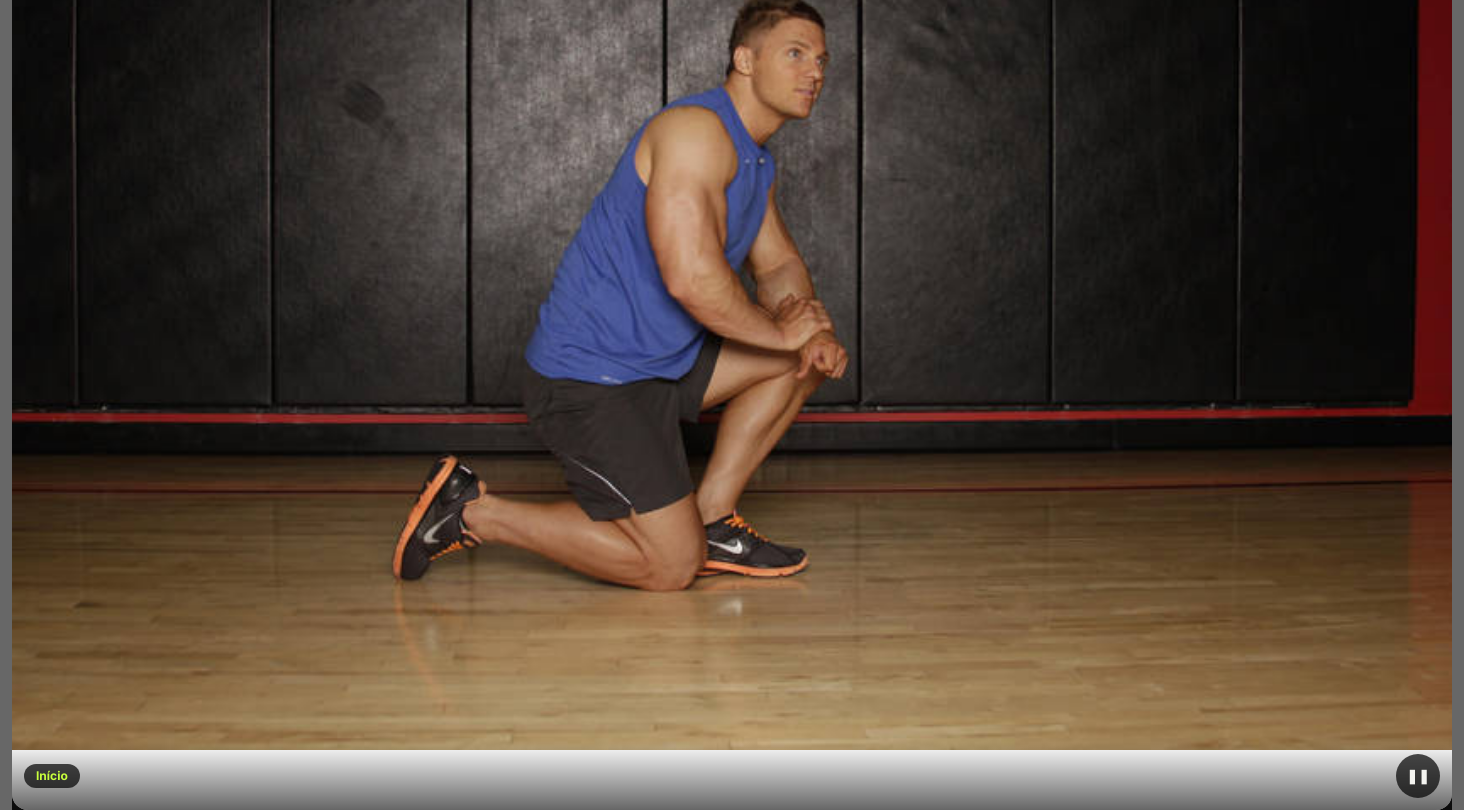
Test case: ExerciseAnimation › o botão pausa e retoma a animação
(page scrolled)
Click the button named "Pausar animação".
click(1418, 776)  # box [1396,754,1440,798]
Wait 5000 ms
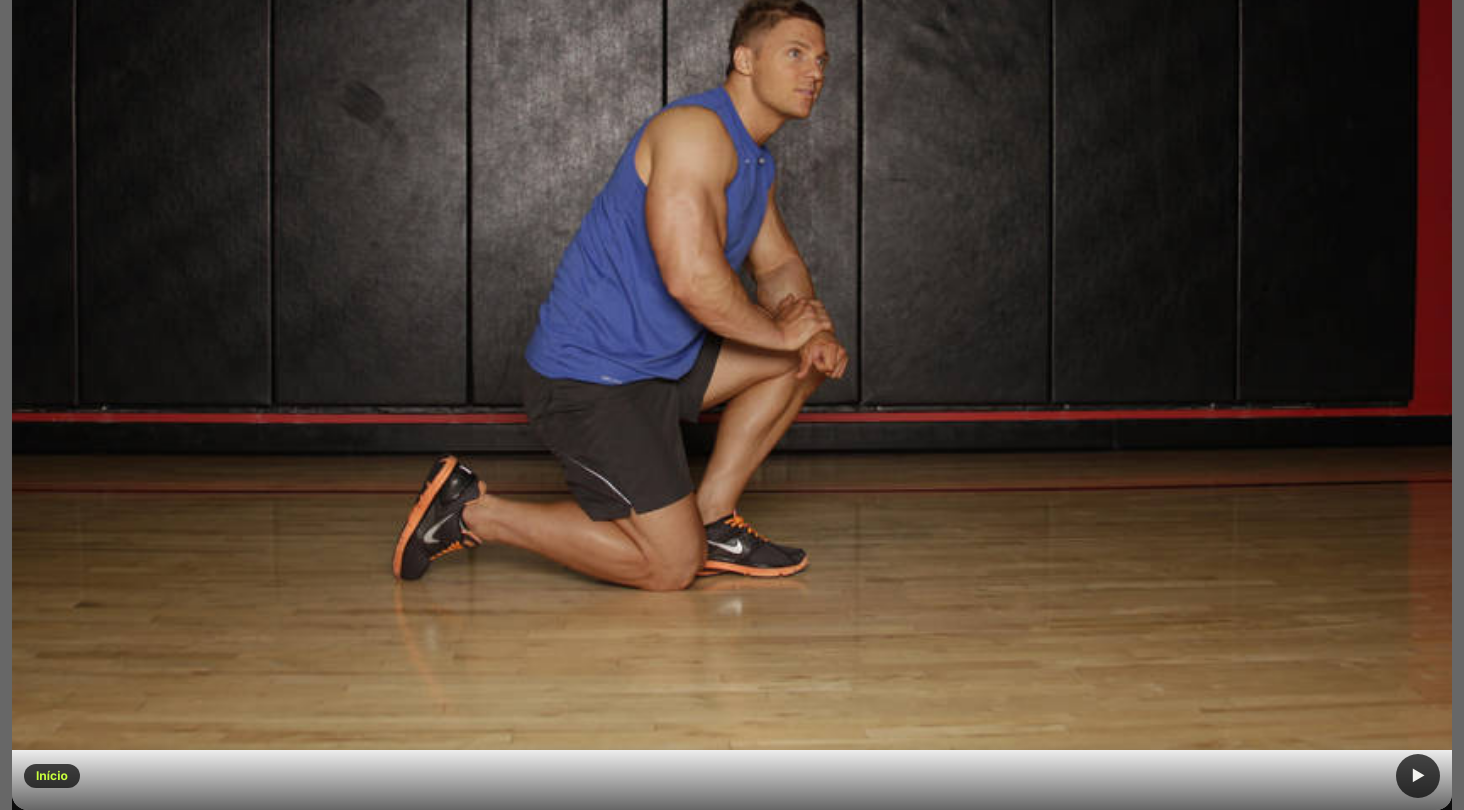
Expected: the text "Início" is shown, [24,764,80,788]
Click the button named "Reproduzir animação".
click(1418, 776)  # box [1396,754,1440,798]
Wait 1800 ms
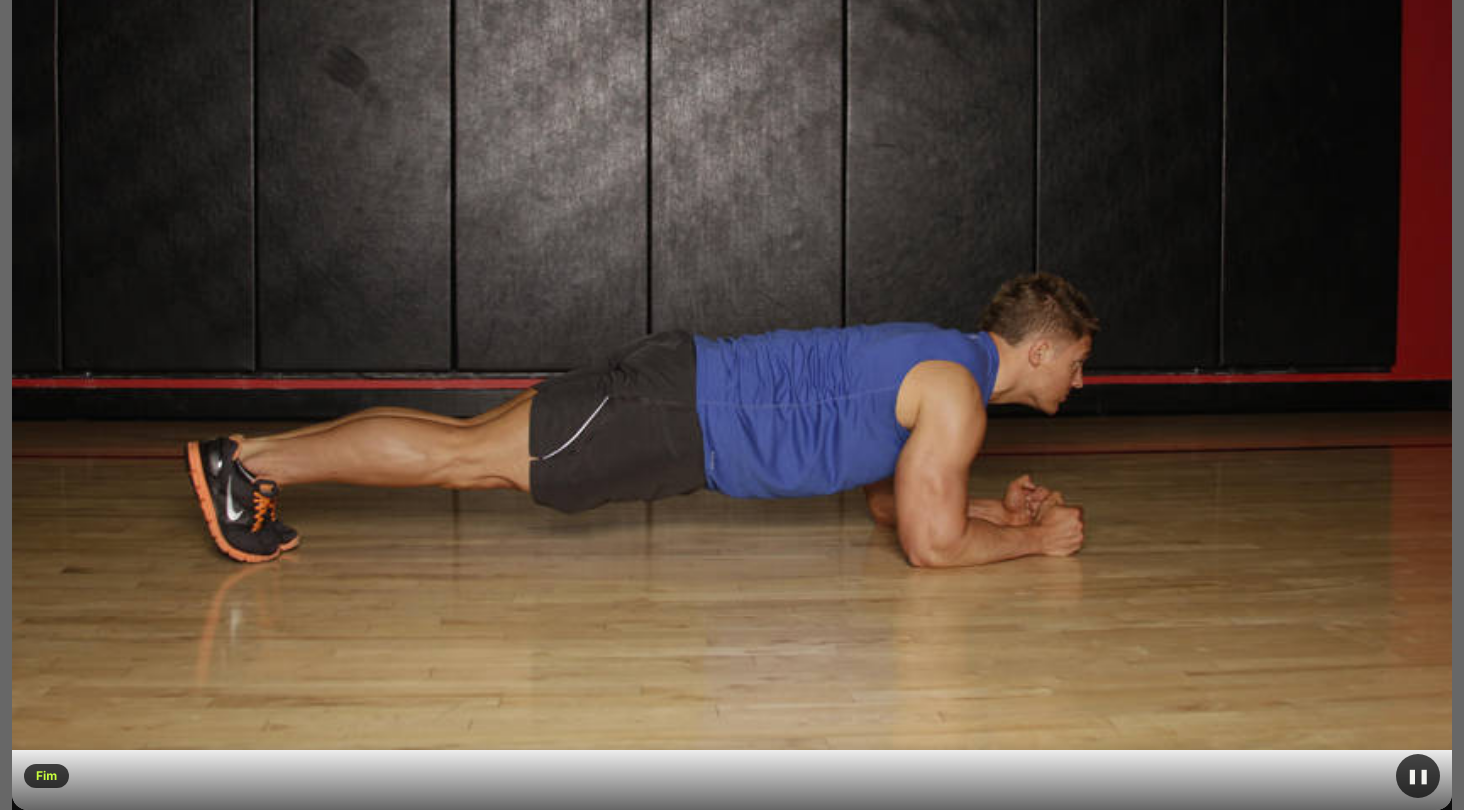
Now the text "Fim" is shown, box [24,764,69,788]
